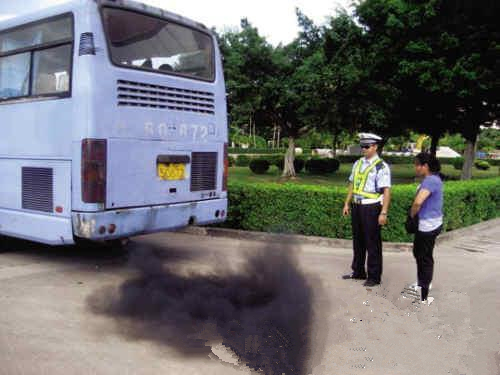smoke: (107, 241, 318, 358)
